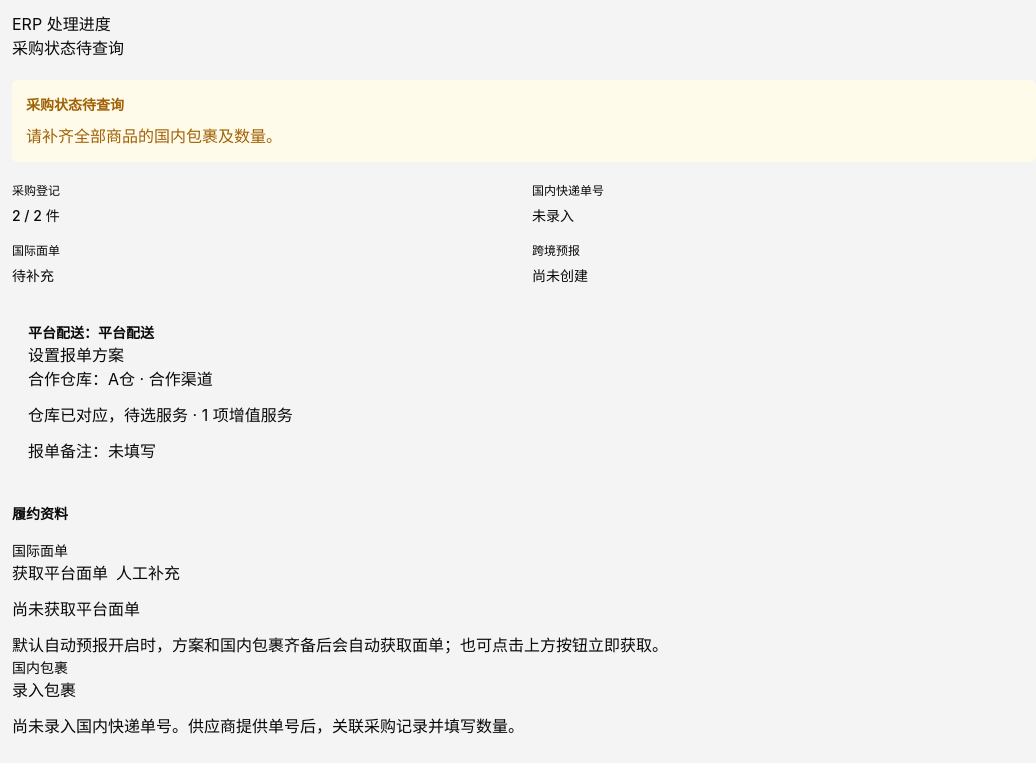
Test: 跨境履约操作 › 获取面单携带当前版本，成功后显示托管地址和箱号
The image size is (1036, 763).
Click the button "获取平台面单": (60, 573) [12,561,108,585]
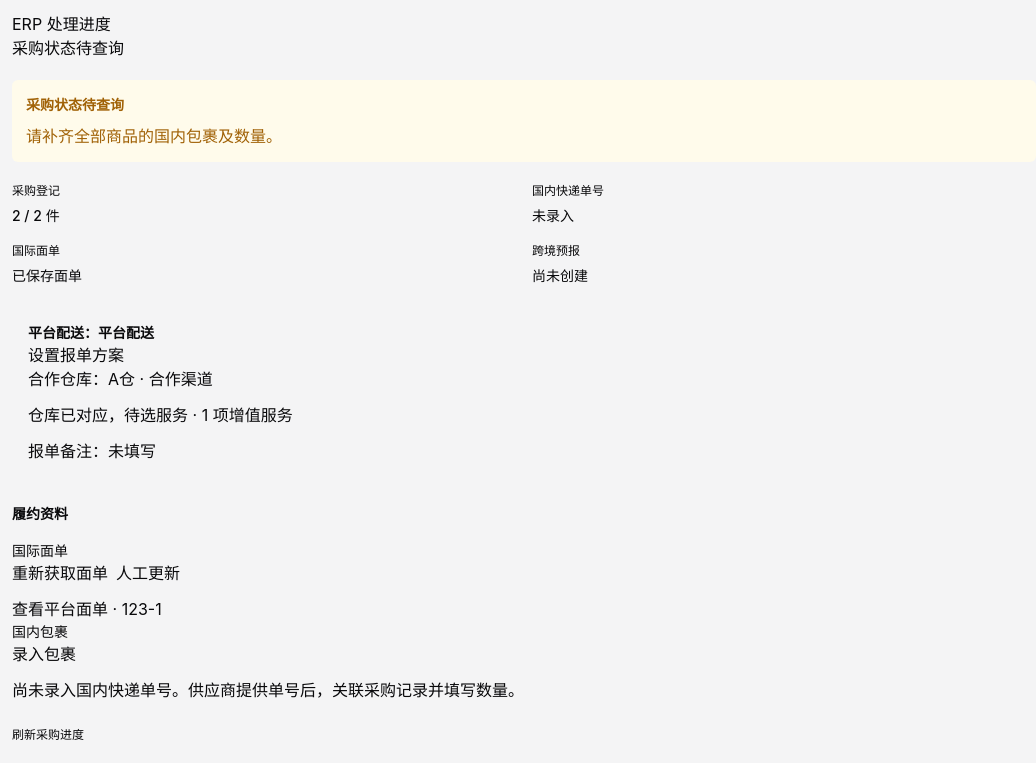
Expected: the link to "https://cdn.example/label.pdf" reads "查看平台面单", [12,599,108,619]
Expected: the text "123-1" is shown, [108,599,162,619]
Expected: the text "重新获取面单" is shown, [12,561,108,585]
